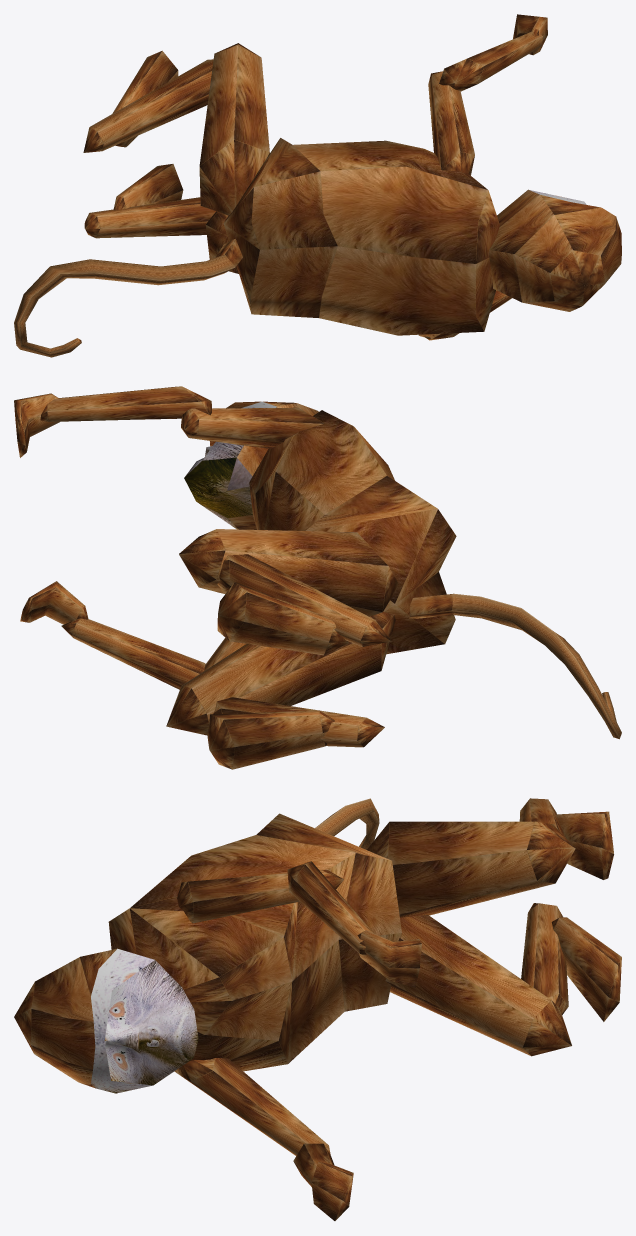
Rendered from monkey_000106.obj.
The picture shows the model from 3 angles, top to bottom: view 1: azimuth 30°, elevation 25°; view 2: azimuth 150°, elevation 25°; view 3: azimuth 270°, elevation 25°; orthographic projection. The views are drawn at different scales.
Parts seen in each view (by area): view 1: Cylinder_Cylinder.001, head.002_Sphere.002, Cylinder.001_Cylinder.002, Cylinder.013_Cylinder, Cylinder.004_Cylinder.005, Cylinder.003_Cylinder.004, Cylinder.008_Cylinder.009, Cylinder.009_Cylinder.011, Cylinder.005_Cylinder.006, Cylinder.006_Cylinder.007, Cylinder.002_Cylinder.003, Cylinder.007_Cylinder.008; view 2: Cylinder_Cylinder.001, Cylinder.001_Cylinder.002, Cylinder.002_Cylinder.003, Cylinder.006_Cylinder.007, Cylinder.005_Cylinder.006, head.002_Sphere.002, Cylinder.013_Cylinder, Cylinder.004_Cylinder.005, Cylinder.009_Cylinder.011, Cylinder.008_Cylinder.009, Cylinder.010_Cylinder.012, Cylinder.003_Cylinder.004 (+2 smaller); view 3: Cylinder_Cylinder.001, head.002_Sphere.002, Cylinder.001_Cylinder.002, Cylinder.002_Cylinder.003, Cylinder.011_Cylinder.013, Cylinder.008_Cylinder.009, Cylinder.005_Cylinder.006, Cylinder.003_Cylinder.004, Cylinder.009_Cylinder.011, Cylinder.006_Cylinder.007, Cylinder.007_Cylinder.008, Cylinder.012_Cylinder.000 (+3 smaller).
Boxes of the visible parts, box(x1,y1,x2,y2) form: Cylinder_Cylinder.001: box(223, 138, 499, 335); head.002_Sphere.002: box(489, 189, 621, 311); Cylinder.001_Cylinder.002: box(199, 43, 269, 215); Cylinder.013_Cylinder: box(14, 239, 242, 357); Cylinder.004_Cylinder.005: box(83, 59, 213, 152); Cylinder.003_Cylinder.004: box(84, 197, 215, 238); Cylinder.008_Cylinder.009: box(428, 71, 474, 175); Cylinder.009_Cylinder.011: box(439, 32, 542, 91); Cylinder.005_Cylinder.006: box(113, 164, 183, 210); Cylinder.006_Cylinder.007: box(112, 50, 178, 147); Cylinder.002_Cylinder.003: box(205, 211, 238, 273); Cylinder.007_Cylinder.008: box(513, 14, 547, 55); Cylinder_Cylinder.001: box(249, 410, 456, 654); Cylinder.001_Cylinder.002: box(179, 529, 398, 616); Cylinder.002_Cylinder.003: box(166, 611, 395, 735); Cylinder.006_Cylinder.007: box(217, 582, 348, 655); Cylinder.005_Cylinder.006: box(207, 710, 334, 769); head.002_Sphere.002: box(184, 401, 318, 529); Cylinder.013_Cylinder: box(409, 593, 621, 739); Cylinder.004_Cylinder.005: box(217, 554, 391, 646); Cylinder.009_Cylinder.011: box(40, 386, 211, 421); Cylinder.008_Cylinder.009: box(181, 407, 324, 448); Cylinder.010_Cylinder.012: box(61, 618, 205, 689); Cylinder.003_Cylinder.004: box(213, 697, 384, 747); Cylinder_Cylinder.001: box(108, 813, 401, 1071); head.002_Sphere.002: box(14, 948, 198, 1093); Cylinder.001_Cylinder.002: box(367, 821, 575, 917); Cylinder.002_Cylinder.003: box(385, 914, 571, 1056); Cylinder.011_Cylinder.013: box(174, 1058, 330, 1155); Cylinder.008_Cylinder.009: box(177, 869, 343, 923); Cylinder.005_Cylinder.006: box(551, 917, 621, 1021); Cylinder.003_Cylinder.004: box(521, 903, 568, 1014); Cylinder.009_Cylinder.011: box(287, 861, 373, 955); Cylinder.006_Cylinder.007: box(555, 811, 614, 879); Cylinder.007_Cylinder.008: box(357, 930, 421, 987); Cylinder.012_Cylinder.000: box(311, 1162, 353, 1220).
Size of the model in its own units: 2.02 by 0.9604 by 1.62.
